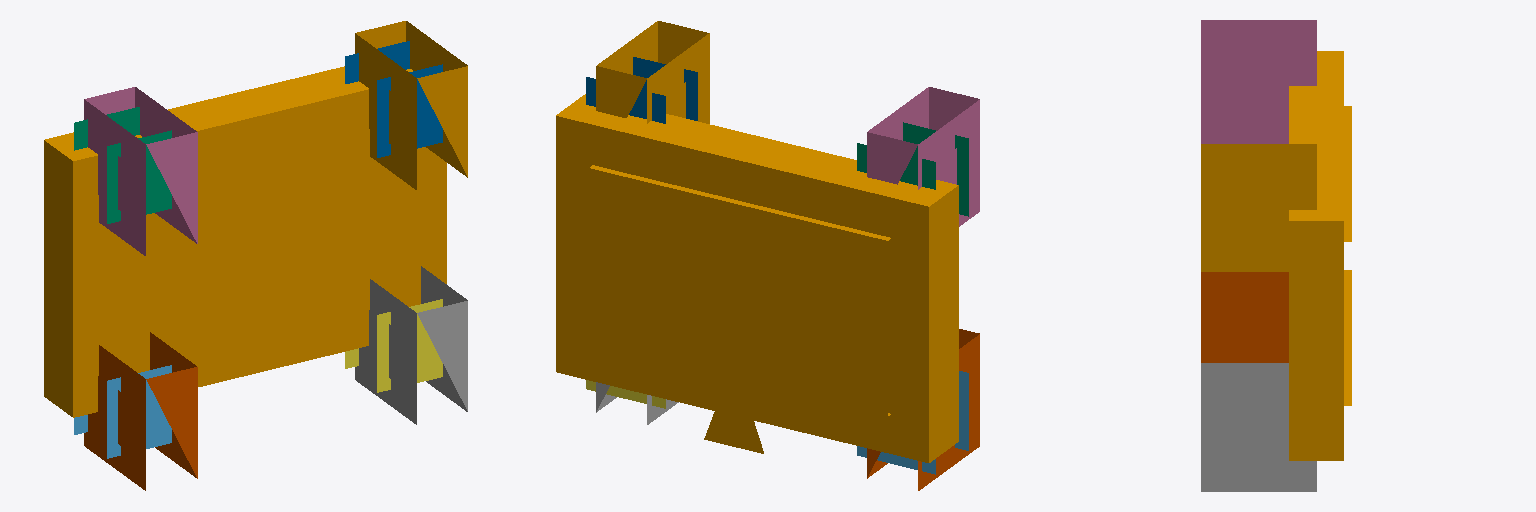
robot.urdf — sample_4wd:
<?xml version="1.0"?>
<robot name="sample_4wd">
  <link name="base_link">
    <visual>
      <origin xyz="0 0.38 0" rpy="0 0 0"/>
      <geometry><mesh filename="package://sample_4wd/meshes/chassis.stl"/></geometry>
      <material name="chassis_blue"/>
    </visual>
    <visual>
      <origin xyz="0 0.55 0" rpy="0 0 0"/>
      <geometry><mesh filename="package://sample_4wd/meshes/deck.stl"/></geometry>
      <material name="deck_yellow"/>
    </visual>
    <visual>
      <origin xyz="0 0.66 -0.48" rpy="1.57079632679 0 0"/>
      <geometry><mesh filename="package://sample_4wd/meshes/front_marker.stl"/></geometry>
      <material name="marker_orange"/>
    </visual>
  </link>

  <link name="motor_fl_link"><visual><origin xyz="0 0.08 0" rpy="0 0 0"/><geometry><mesh filename="package://sample_4wd/meshes/motor.stl"/></geometry><material name="motor_dark"/></visual></link>
  <link name="motor_bl_link"><visual><origin xyz="0 0.08 0" rpy="0 0 0"/><geometry><mesh filename="package://sample_4wd/meshes/motor.stl"/></geometry><material name="motor_dark"/></visual></link>
  <link name="motor_fr_link"><visual><origin xyz="0 0.08 0" rpy="0 0 0"/><geometry><mesh filename="package://sample_4wd/meshes/motor.stl"/></geometry><material name="motor_dark"/></visual></link>
  <link name="motor_br_link"><visual><origin xyz="0 0.08 0" rpy="0 0 0"/><geometry><mesh filename="package://sample_4wd/meshes/motor.stl"/></geometry><material name="motor_dark"/></visual></link>

  <link name="wheel_fl_link">
    <visual><origin xyz="0 0 0" rpy="0 0 0"/><geometry><mesh filename="package://sample_4wd/meshes/tire.stl"/></geometry><material name="tire_dark"/></visual>
    <visual><origin xyz="0 0 0" rpy="0 0 0"/><geometry><mesh filename="package://sample_4wd/meshes/hub.stl"/></geometry><material name="hub_light"/></visual>
    <visual><origin xyz="0.17 0 0" rpy="0 0 0"/><geometry><mesh filename="package://sample_4wd/meshes/wheel_marker.stl"/></geometry><material name="deck_yellow"/></visual>
  </link>
  <link name="wheel_bl_link">
    <visual><origin xyz="0 0 0" rpy="0 0 0"/><geometry><mesh filename="package://sample_4wd/meshes/tire.stl"/></geometry><material name="tire_dark"/></visual>
    <visual><origin xyz="0 0 0" rpy="0 0 0"/><geometry><mesh filename="package://sample_4wd/meshes/hub.stl"/></geometry><material name="hub_light"/></visual>
    <visual><origin xyz="0.17 0 0" rpy="0 0 0"/><geometry><mesh filename="package://sample_4wd/meshes/wheel_marker.stl"/></geometry><material name="deck_yellow"/></visual>
  </link>
  <link name="wheel_fr_link">
    <visual><origin xyz="0 0 0" rpy="0 0 0"/><geometry><mesh filename="package://sample_4wd/meshes/tire.stl"/></geometry><material name="tire_dark"/></visual>
    <visual><origin xyz="0 0 0" rpy="0 0 0"/><geometry><mesh filename="package://sample_4wd/meshes/hub.stl"/></geometry><material name="hub_light"/></visual>
    <visual><origin xyz="0.17 0 0" rpy="0 0 0"/><geometry><mesh filename="package://sample_4wd/meshes/wheel_marker.stl"/></geometry><material name="deck_yellow"/></visual>
  </link>
  <link name="wheel_br_link">
    <visual><origin xyz="0 0 0" rpy="0 0 0"/><geometry><mesh filename="package://sample_4wd/meshes/tire.stl"/></geometry><material name="tire_dark"/></visual>
    <visual><origin xyz="0 0 0" rpy="0 0 0"/><geometry><mesh filename="package://sample_4wd/meshes/hub.stl"/></geometry><material name="hub_light"/></visual>
    <visual><origin xyz="0.17 0 0" rpy="0 0 0"/><geometry><mesh filename="package://sample_4wd/meshes/wheel_marker.stl"/></geometry><material name="deck_yellow"/></visual>
  </link>

  <joint name="motor_fl_joint" type="fixed"><parent link="base_link"/><child link="motor_fl_link"/><origin xyz="-0.58 0.26 -0.48" rpy="0 0 0"/></joint>
  <joint name="motor_bl_joint" type="fixed"><parent link="base_link"/><child link="motor_bl_link"/><origin xyz="-0.58 0.26 0.48" rpy="0 0 0"/></joint>
  <joint name="motor_fr_joint" type="fixed"><parent link="base_link"/><child link="motor_fr_link"/><origin xyz="0.58 0.26 -0.48" rpy="0 0 0"/></joint>
  <joint name="motor_br_joint" type="fixed"><parent link="base_link"/><child link="motor_br_link"/><origin xyz="0.58 0.26 0.48" rpy="0 0 0"/></joint>

  <joint name="wheel_fl_joint" type="continuous"><parent link="base_link"/><child link="wheel_fl_link"/><origin xyz="-0.58 0.26 -0.48" rpy="0 0 1.57079632679"/></joint>
  <joint name="wheel_bl_joint" type="continuous"><parent link="base_link"/><child link="wheel_bl_link"/><origin xyz="-0.58 0.26 0.48" rpy="0 0 1.57079632679"/></joint>
  <joint name="wheel_fr_joint" type="continuous"><parent link="base_link"/><child link="wheel_fr_link"/><origin xyz="0.58 0.26 -0.48" rpy="0 0 1.57079632679"/></joint>
  <joint name="wheel_br_joint" type="continuous"><parent link="base_link"/><child link="wheel_br_link"/><origin xyz="0.58 0.26 0.48" rpy="0 0 1.57079632679"/></joint>
</robot>

--- What the picture shows (computed from the rendered views, not written in the file) ---
The picture shows the robot from 3 angles, left to right: view 1: azimuth 30°, elevation 25°; view 2: azimuth 150°, elevation 25°; view 3: azimuth 270°, elevation 25°; orthographic projection.
Robot: sample_4wd — 9 links, 8 joints (4 continuous, 4 fixed); root link base_link; default pose: every joint at zero.
Links seen in each view (by area): view 1: base_link, wheel_bl_link, wheel_br_link, wheel_fl_link, wheel_fr_link, motor_br_link, motor_bl_link, motor_fr_link, motor_fl_link; view 2: base_link, wheel_bl_link, wheel_br_link, wheel_fl_link, motor_bl_link, motor_br_link, motor_fl_link, wheel_fr_link, motor_fr_link; view 3: base_link, wheel_br_link, wheel_bl_link, wheel_fr_link, wheel_fl_link.
Boxes of the visible links, bbox=[...] form: base_link: bbox=[44, 66, 446, 417]; wheel_bl_link: bbox=[84, 87, 197, 255]; wheel_br_link: bbox=[355, 21, 467, 189]; wheel_fl_link: bbox=[84, 332, 197, 490]; wheel_fr_link: bbox=[355, 266, 467, 424]; motor_br_link: bbox=[345, 41, 442, 157]; motor_bl_link: bbox=[74, 107, 171, 223]; motor_fr_link: bbox=[345, 299, 442, 392]; motor_fl_link: bbox=[74, 365, 171, 458]; base_link: bbox=[556, 94, 958, 462]; wheel_bl_link: bbox=[867, 87, 979, 226]; wheel_br_link: bbox=[596, 21, 709, 123]; wheel_fl_link: bbox=[867, 329, 979, 490]; motor_bl_link: bbox=[857, 122, 968, 216]; motor_br_link: bbox=[586, 57, 697, 123]; motor_fl_link: bbox=[857, 371, 968, 474]; wheel_fr_link: bbox=[596, 382, 678, 424]; motor_fr_link: bbox=[586, 380, 665, 408]; base_link: bbox=[1289, 51, 1351, 460]; wheel_br_link: bbox=[1201, 144, 1316, 271]; wheel_bl_link: bbox=[1201, 20, 1316, 143]; wheel_fr_link: bbox=[1201, 363, 1316, 491]; wheel_fl_link: bbox=[1201, 272, 1288, 362].
Size in the robot's own frame: 1.6 by 0.63 by 1.42 metres.
19 mesh visuals loaded from 7 distinct referenced files (7 ASCII STL).
